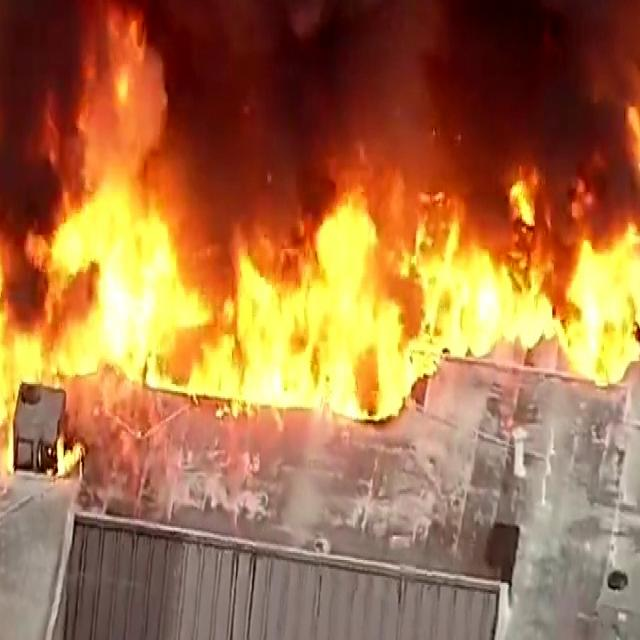fire: (224, 181, 387, 437), (72, 176, 197, 397), (398, 188, 542, 378), (571, 222, 640, 412), (620, 66, 640, 254)
